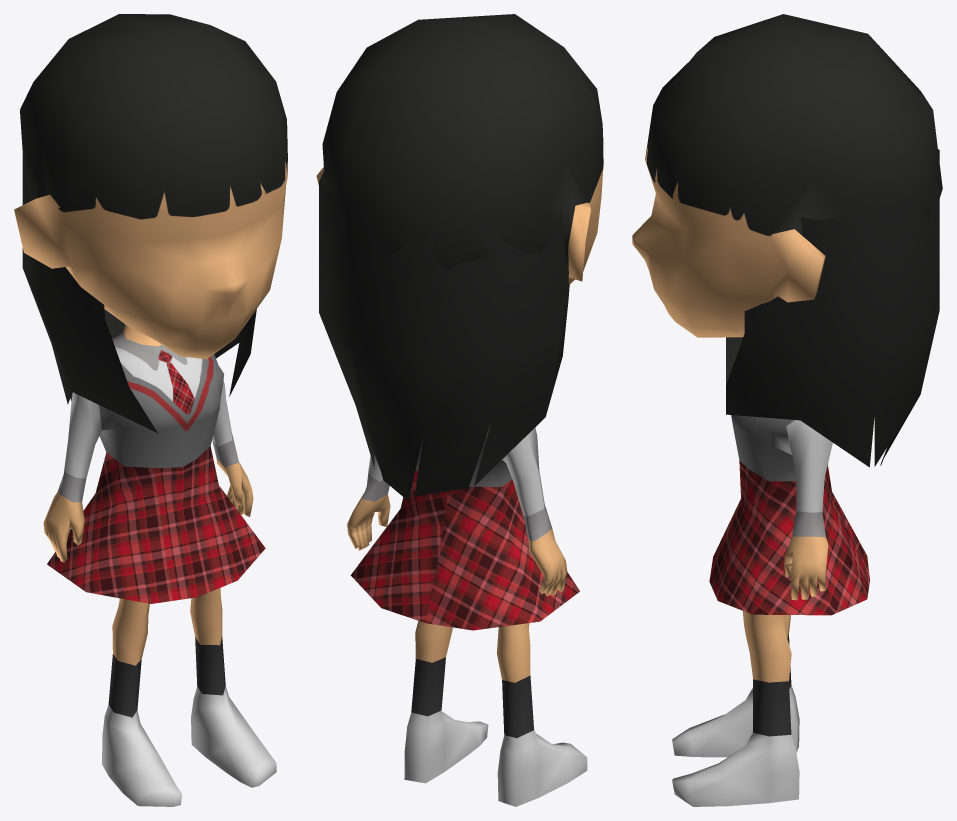
File: high school_girl.FBX
3 renders of one model, left to right at view 1: azimuth 30°, elevation 25°; view 2: azimuth 150°, elevation 25°; view 3: azimuth 270°, elevation 25°, orthographic. The views are drawn at different scales.
Visible parts, largest first — view 1: Plane010, leg006; view 2: Plane010, leg006; view 3: Plane010, leg006.
Part boxes in pixels (bbox=[...]): Plane010: bbox=[14, 14, 287, 433]; leg006: bbox=[43, 324, 276, 806]; Plane010: bbox=[316, 14, 603, 500]; leg006: bbox=[347, 424, 587, 806]; Plane010: bbox=[632, 14, 942, 467]; leg006: bbox=[672, 415, 869, 806].
Size of the model in its own units: 26.66 by 72.21 by 27.44.
2 materials, 2 textured.
